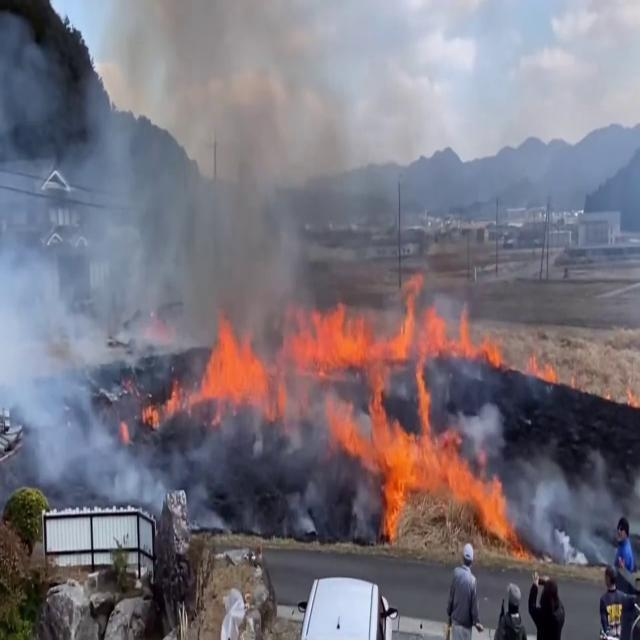Fire: (194, 282, 586, 416), (306, 380, 534, 538)
Smoke: (0, 1, 367, 462)
